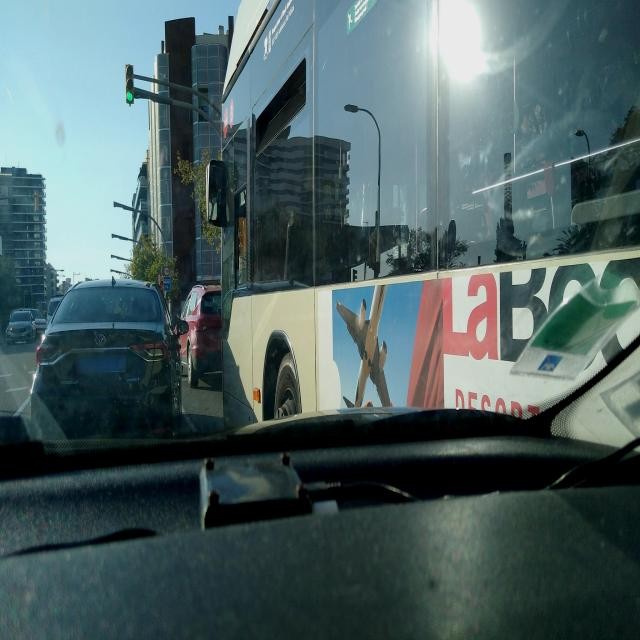car: (29, 275, 183, 440), (177, 275, 225, 387), (5, 308, 35, 346), (46, 293, 64, 325)
